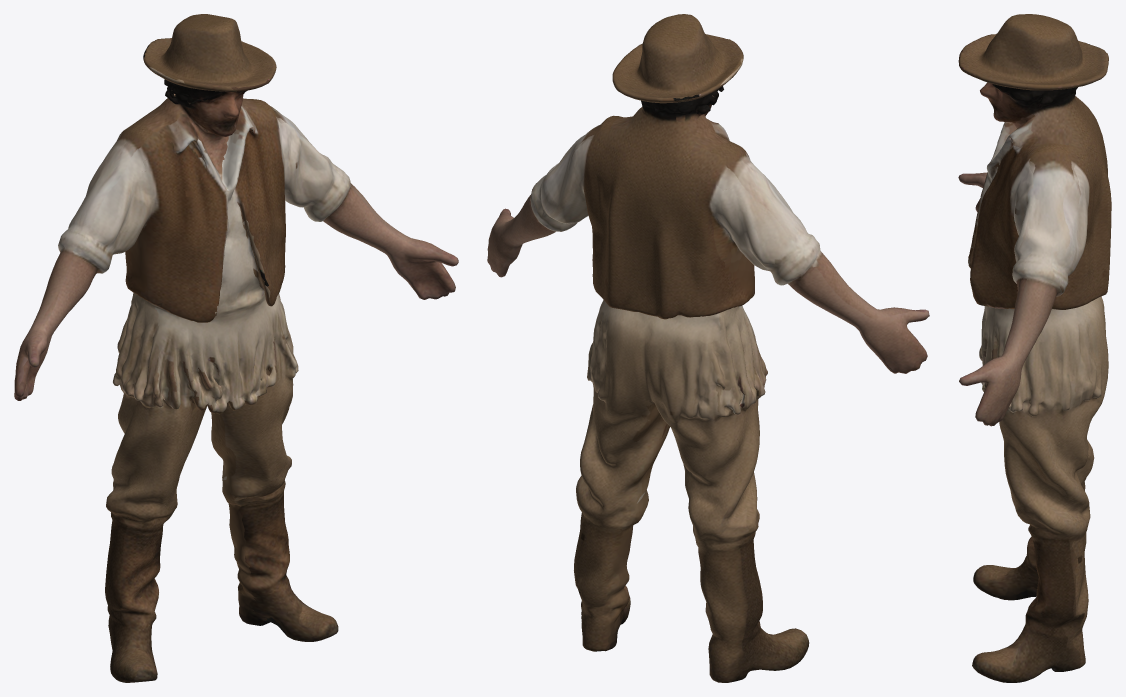
Rendered from levado_rig.glb.
The picture shows the model from 3 angles, left to right: view 1: azimuth 30°, elevation 25°; view 2: azimuth 150°, elevation 25°; view 3: azimuth 270°, elevation 25°; orthographic projection.
Visible parts, largest first — view 1: temp_mesh.ply; view 2: temp_mesh.ply; view 3: temp_mesh.ply.
Boxes of the visible parts, bbox=[...] form: temp_mesh.ply: bbox=[14, 14, 458, 682]; temp_mesh.ply: bbox=[487, 14, 929, 682]; temp_mesh.ply: bbox=[958, 14, 1111, 682].
Size of the model in its own units: 1.25 by 1.7 by 0.383.
Materials: 1 (1 with a texture image).
